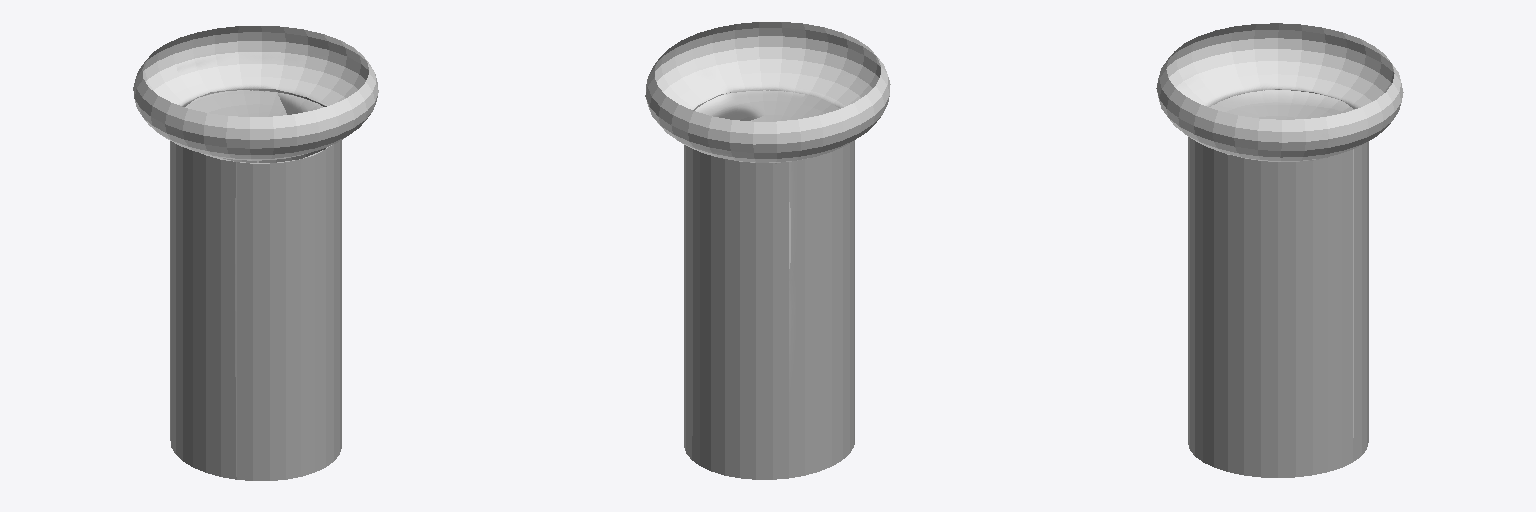
3 renders of one model, left to right at view 1: azimuth 30°, elevation 25°; view 2: azimuth 150°, elevation 25°; view 3: azimuth 270°, elevation 25°, orthographic.
Visible parts, largest first — view 1: 円柱; view 2: 円柱; view 3: 円柱.
Boxes of the visible parts, x1,y1,x2,y2 form: 円柱: [133, 26, 378, 480]; 円柱: [645, 22, 890, 479]; 円柱: [1156, 23, 1403, 477].
Size of the model in its own units: 4.59 by 7.71 by 4.62.
Materials: 1 (1 with a texture image).